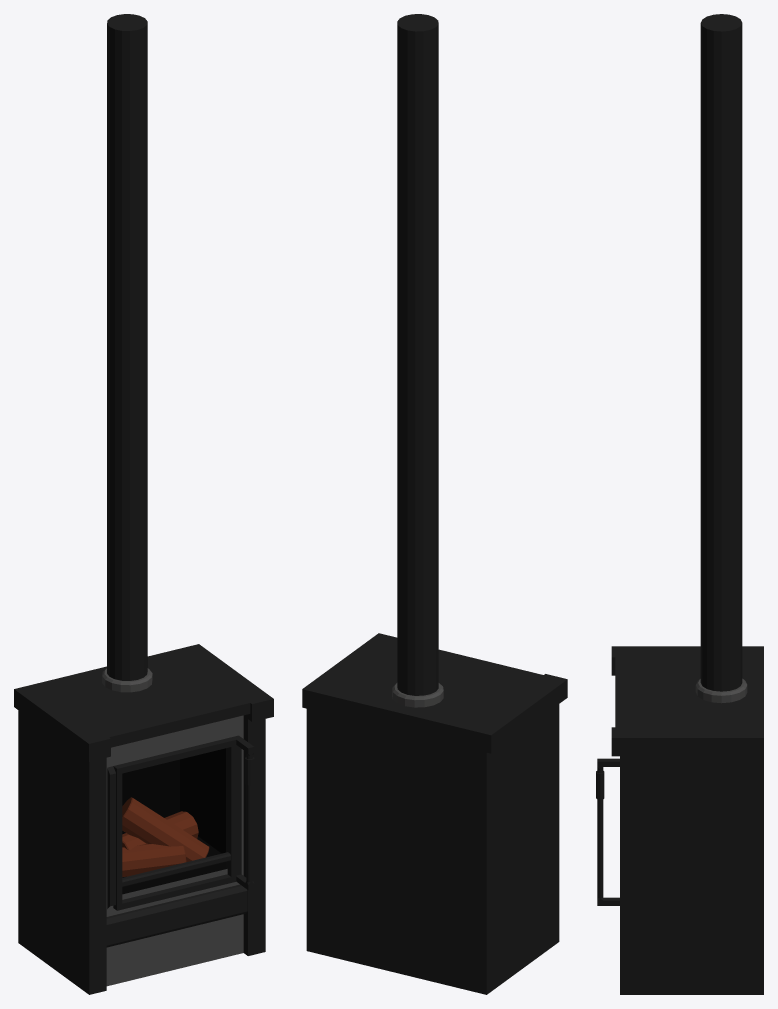
The model's file is kachel .fbx.
3 views of the same model, side by side, from view 1: azimuth 30°, elevation 25°; view 2: azimuth 150°, elevation 25°; view 3: azimuth 270°, elevation 25° (orthographic). The views are drawn at different scales.
Parts seen in each view (by area): view 1: kachel, kachel deur; view 2: kachel; view 3: kachel, kachel deur.
Boxes of the visible parts, bbox=[...] form: kachel: bbox=[14, 14, 273, 994]; kachel deur: bbox=[113, 735, 254, 910]; kachel: bbox=[302, 14, 567, 994]; kachel: bbox=[611, 14, 763, 994]; kachel deur: bbox=[596, 758, 619, 905].
Size of the model in its own units: 0.5 by 2.36 by 0.3869.
